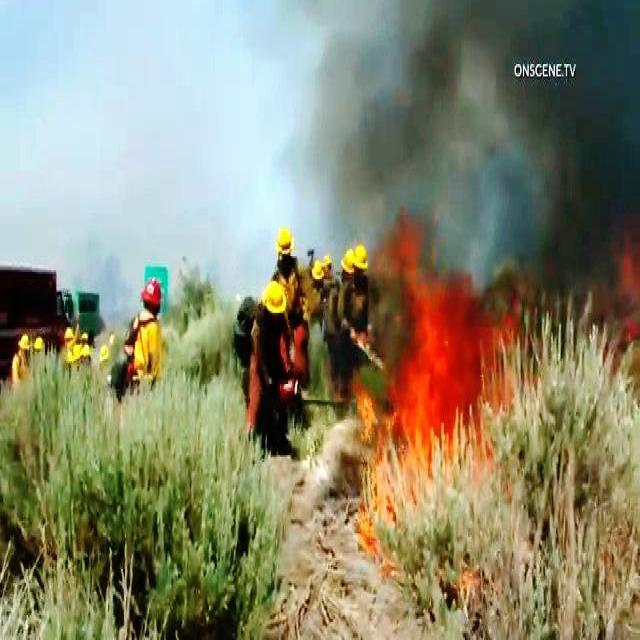Fire: (383, 229, 505, 576)
Smoke: (326, 9, 508, 220)
